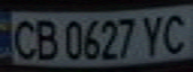0: (60, 17, 84, 61)
2: (100, 16, 121, 61)
6: (81, 17, 103, 61)
7: (115, 15, 142, 60)
B: (30, 16, 60, 62)
C: (157, 9, 193, 55), (6, 16, 42, 61)
Y: (139, 11, 169, 56)
